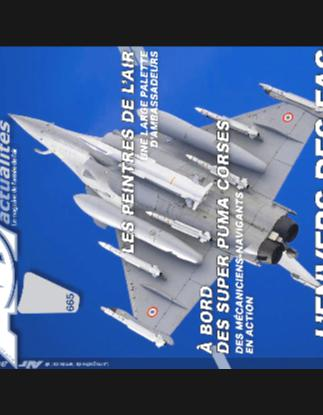RQ4: (6, 83, 321, 349)
